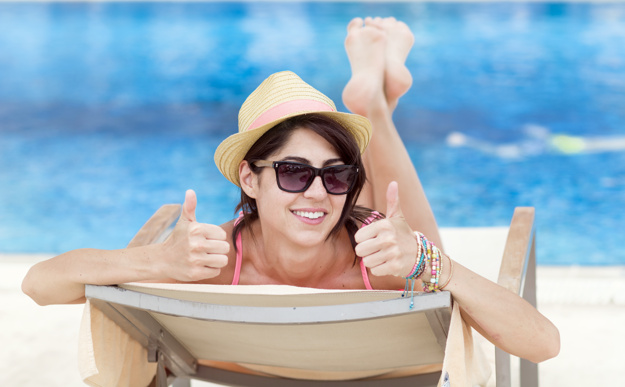thumbsup: (179, 188, 230, 281), (354, 180, 402, 276)
